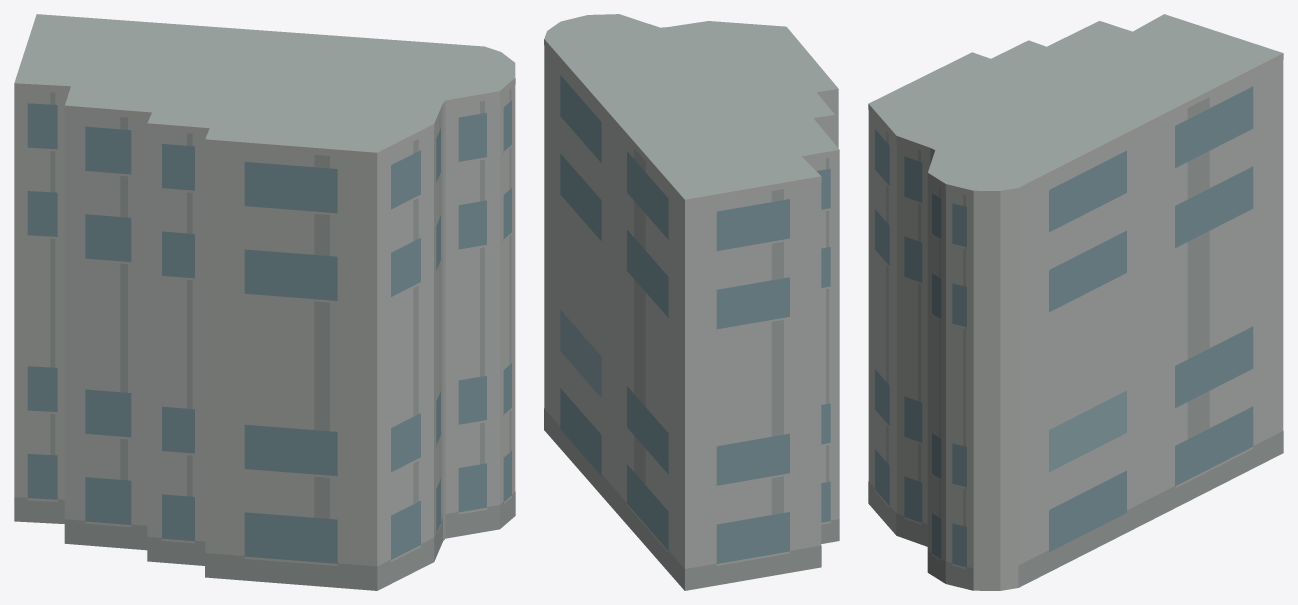
The model's file is residential-c17b6c3b-fe1d-4d61-9b2c-02099f34dea2.glb.
The picture shows the model from 3 angles, left to right: view 1: azimuth 30°, elevation 25°; view 2: azimuth 150°, elevation 25°; view 3: azimuth 270°, elevation 25°; orthographic projection. The views are drawn at different scales.
Visible parts, largest first — view 1: residential-c17b6c3b-fe1d-4d61-9b2c-02099f34dea2.tmp; view 2: residential-c17b6c3b-fe1d-4d61-9b2c-02099f34dea2.tmp; view 3: residential-c17b6c3b-fe1d-4d61-9b2c-02099f34dea2.tmp.
Boxes of the visible parts, x1,y1,x2,y2 form: residential-c17b6c3b-fe1d-4d61-9b2c-02099f34dea2.tmp: (14,14,515,590); residential-c17b6c3b-fe1d-4d61-9b2c-02099f34dea2.tmp: (544,14,839,590); residential-c17b6c3b-fe1d-4d61-9b2c-02099f34dea2.tmp: (868,14,1283,590).
Size of the model in its own units: 14.47 by 15.25 by 14.35.
